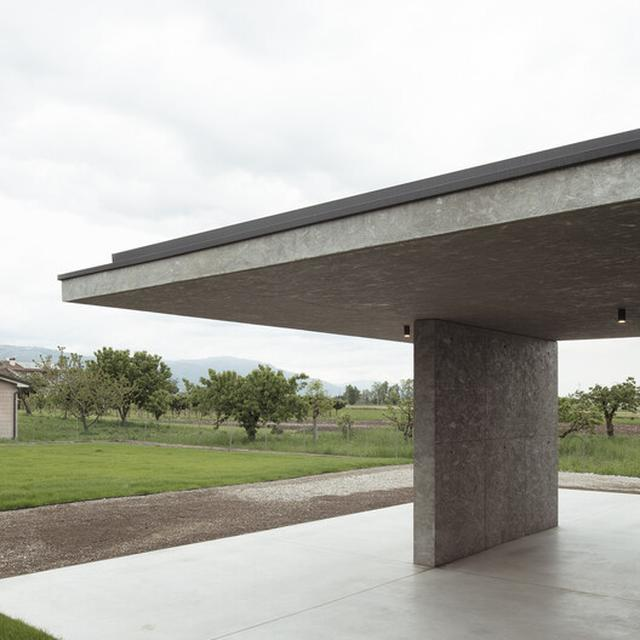building: (55, 120, 640, 570)
